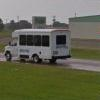Bus: (7, 25, 74, 62)
